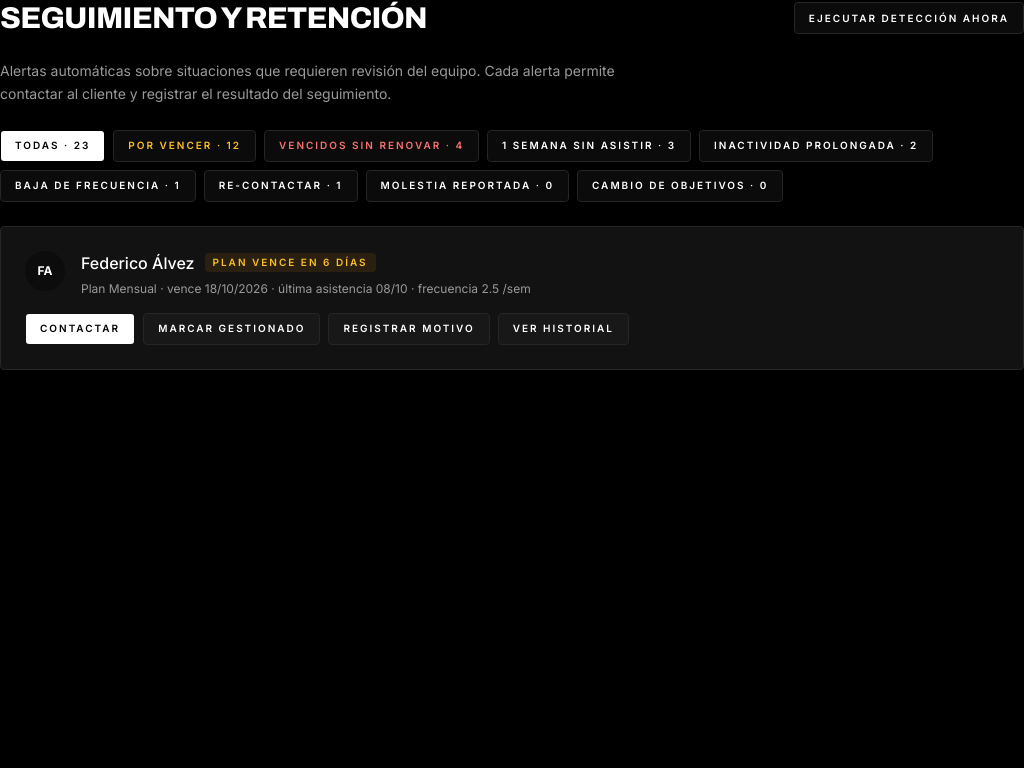
Test: FollowupView contact dialog › shows the API field errors under the note and keeps the dialog open
Click the button "Contactar" at point(80, 328), box [25,312,135,344]
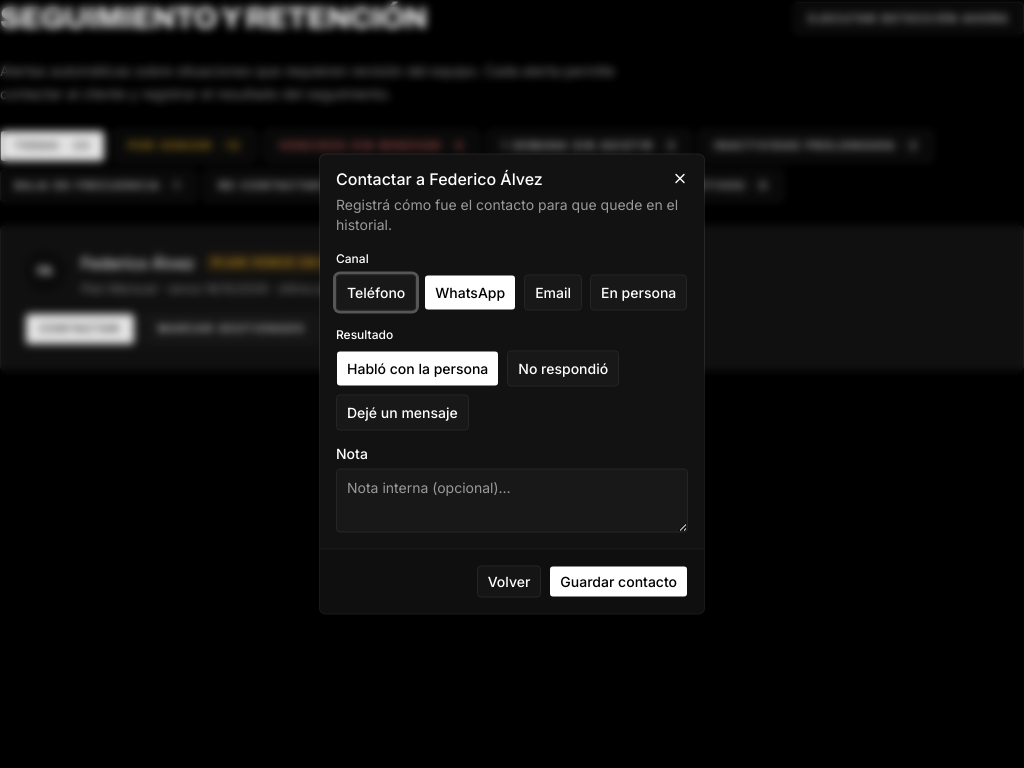
Click the button "Guardar contacto" at point(619, 582), box [549,566,688,598]
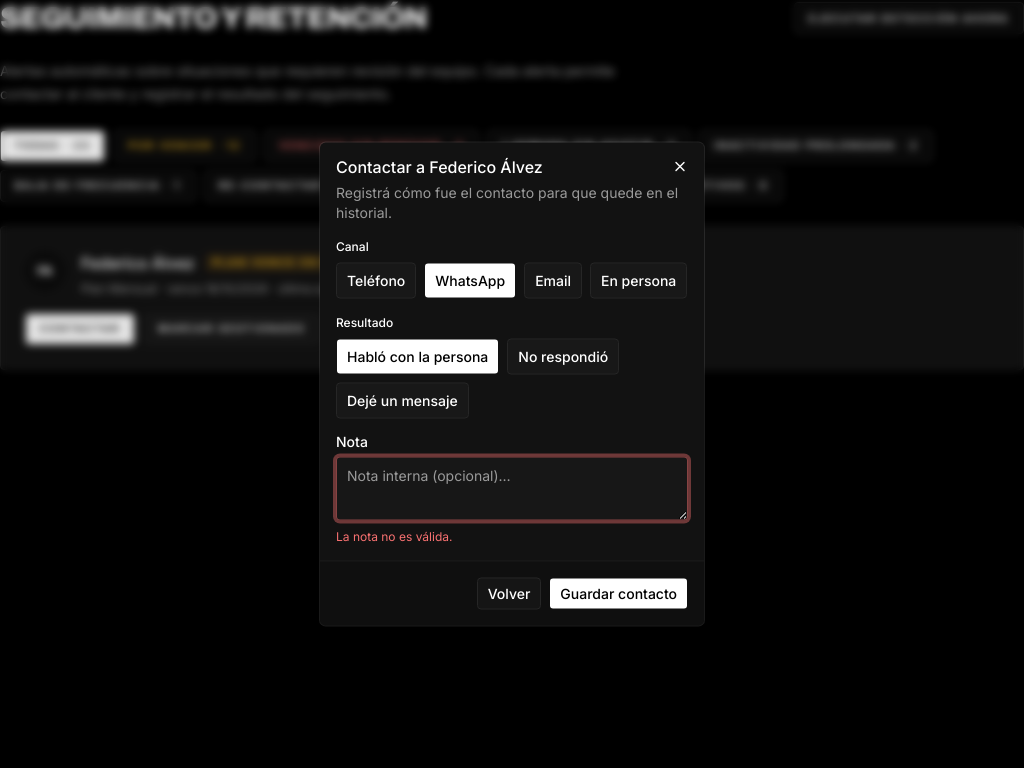
Result: the dialog is shown at [320,142,704,626]
Result: the text "La nota no es válida." is shown at [336,528,452,544]
